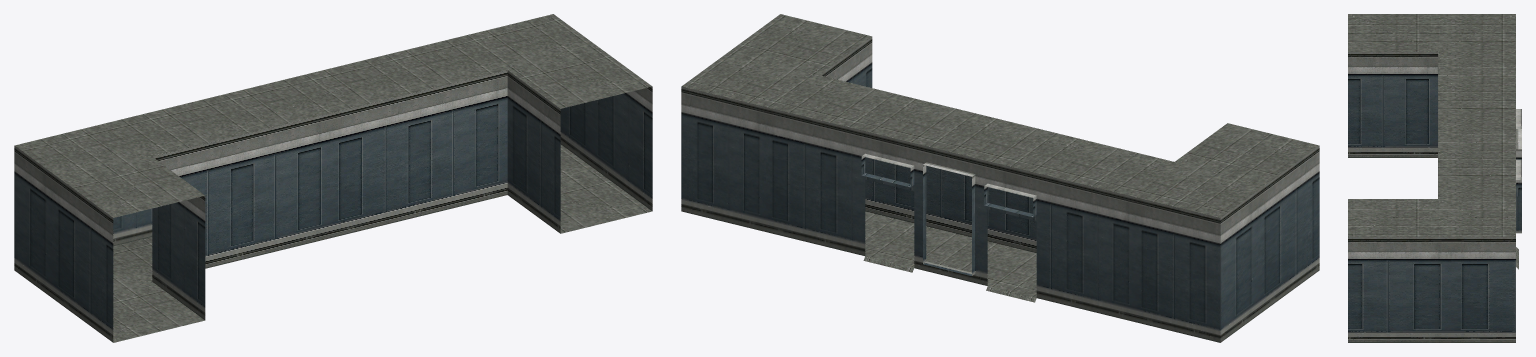
Rendered from thm_corl_imprv_building_s05_r4_foyer2_mesh_l1.fbx.
3 views of the same model, side by side, from view 1: azimuth 30°, elevation 25°; view 2: azimuth 150°, elevation 25°; view 3: azimuth 270°, elevation 25° (orthographic). The views are drawn at different scales.
Parts seen in each view (by area): view 1: mesh_node; view 2: mesh_node; view 3: mesh_node.
Part boxes in pixels (left/top/right/bottom): mesh_node: left=14, top=14, right=652, bottom=342; mesh_node: left=681, top=14, right=1319, bottom=342; mesh_node: left=1348, top=14, right=1521, bottom=342.
Size of the model in its own units: 17.6 by 4 by 5.8.
